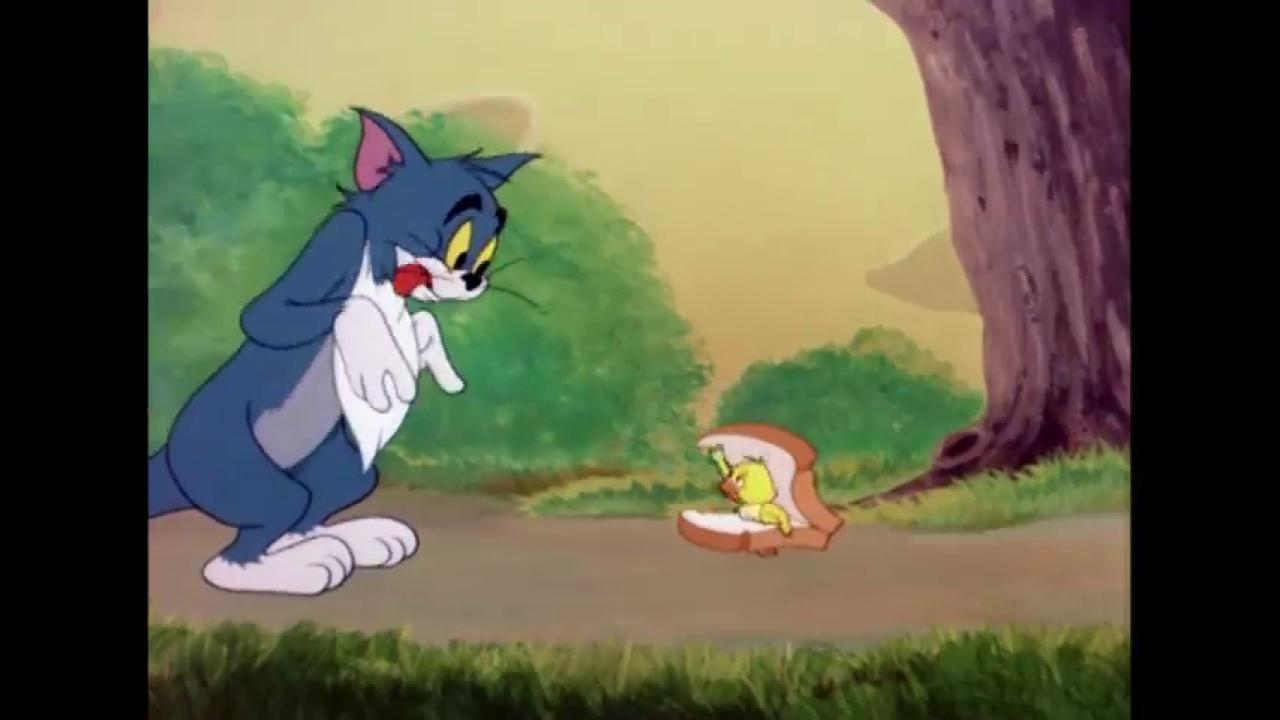Tom: (149, 103, 545, 598)
